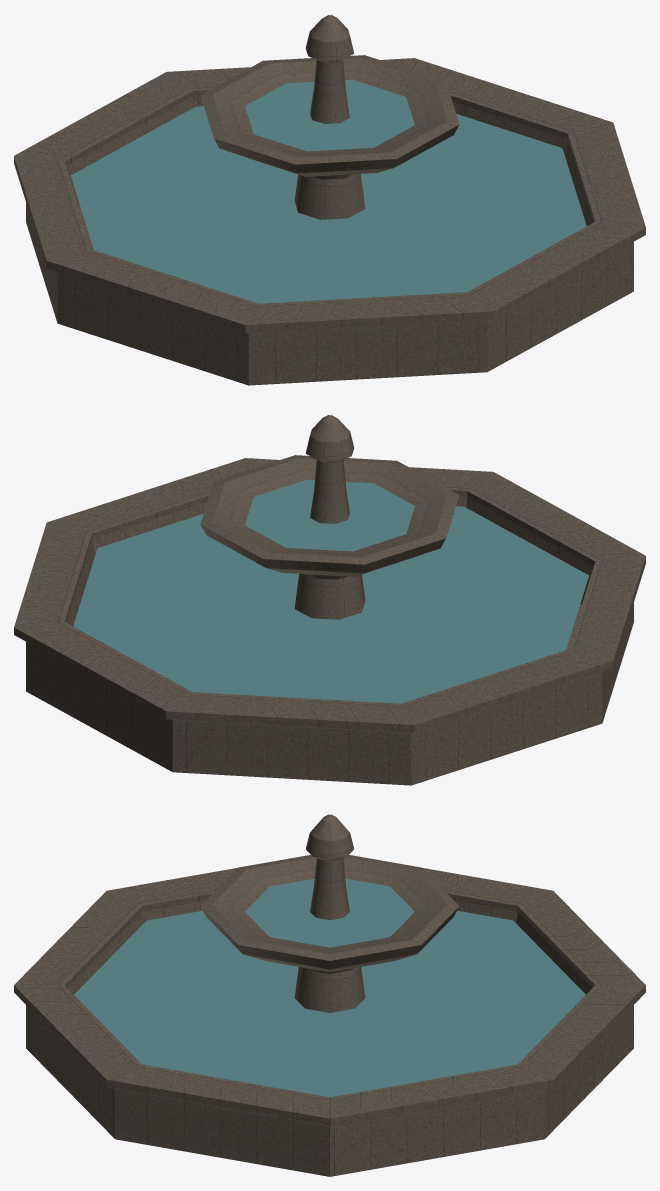
Rendered from fontaine_place_lod2.glb.
3 renders of one model, top to bottom at view 1: azimuth 30°, elevation 25°; view 2: azimuth 150°, elevation 25°; view 3: azimuth 270°, elevation 25°, orthographic. The views are drawn at different scales.
Parts seen in each view (by area): view 1: fontaine; view 2: fontaine; view 3: fontaine.
Part boxes in pixels (box(x1,y1,x2,y2)): fontaine: box(14, 15, 645, 385); fontaine: box(14, 415, 645, 785); fontaine: box(14, 814, 645, 1176).
Size of the model in its own units: 6.24 by 2.55 by 6.24.
2 materials, 1 textured.
